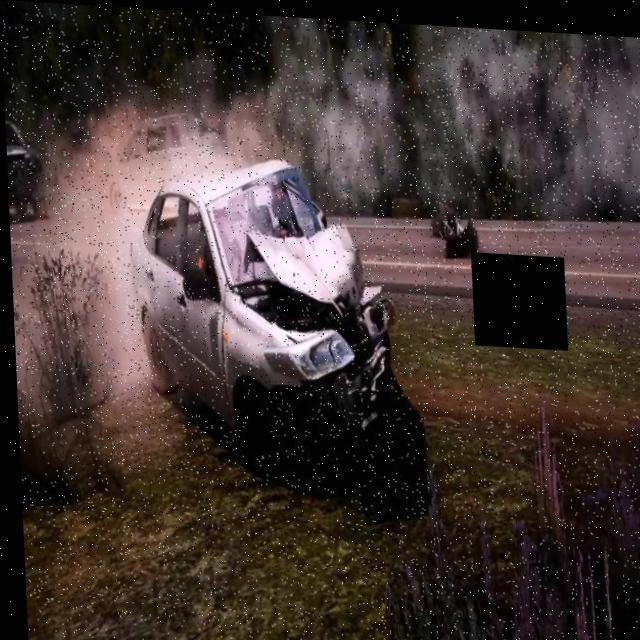single accident: (77, 97, 443, 489)
